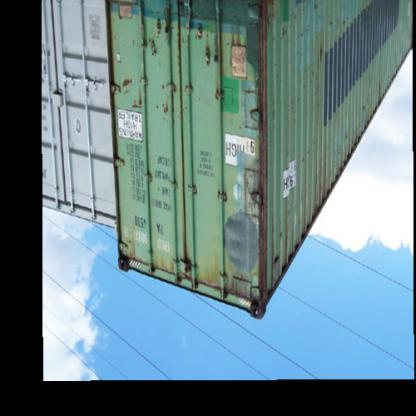Damage: (242, 5, 284, 300), (134, 24, 230, 80)
